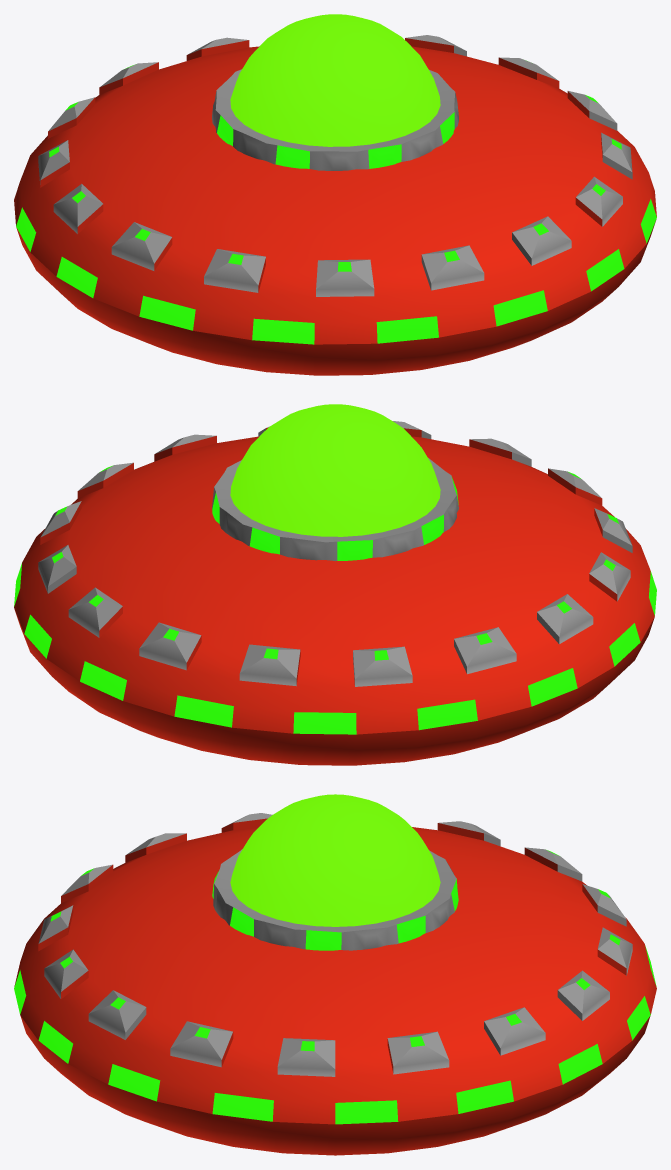
The model's file is UFO.glb.
The picture shows the model from 3 angles, top to bottom: view 1: azimuth 30°, elevation 25°; view 2: azimuth 150°, elevation 25°; view 3: azimuth 270°, elevation 25°; orthographic projection.
Parts seen in each view (by area): view 1: Sphere, Sphere.002, Sphere.001; view 2: Sphere, Sphere.002, Sphere.001; view 3: Sphere, Sphere.002, Sphere.001.
Part boxes in pixels (x1=…): Sphere: x1=14, y1=35, x2=656, y2=344; Sphere.002: x1=212, y1=14, x2=458, y2=170; Sphere.001: x1=16, y1=219, x2=656, y2=375; Sphere: x1=14, y1=421, x2=656, y2=734; Sphere.002: x1=212, y1=404, x2=458, y2=561; Sphere.001: x1=14, y1=609, x2=654, y2=765; Sphere: x1=14, y1=813, x2=656, y2=1124; Sphere.002: x1=212, y1=794, x2=458, y2=950; Sphere.001: x1=20, y1=1016, x2=650, y2=1155.
Bounding box in the file's own units: 6 × 3.11 × 6.
